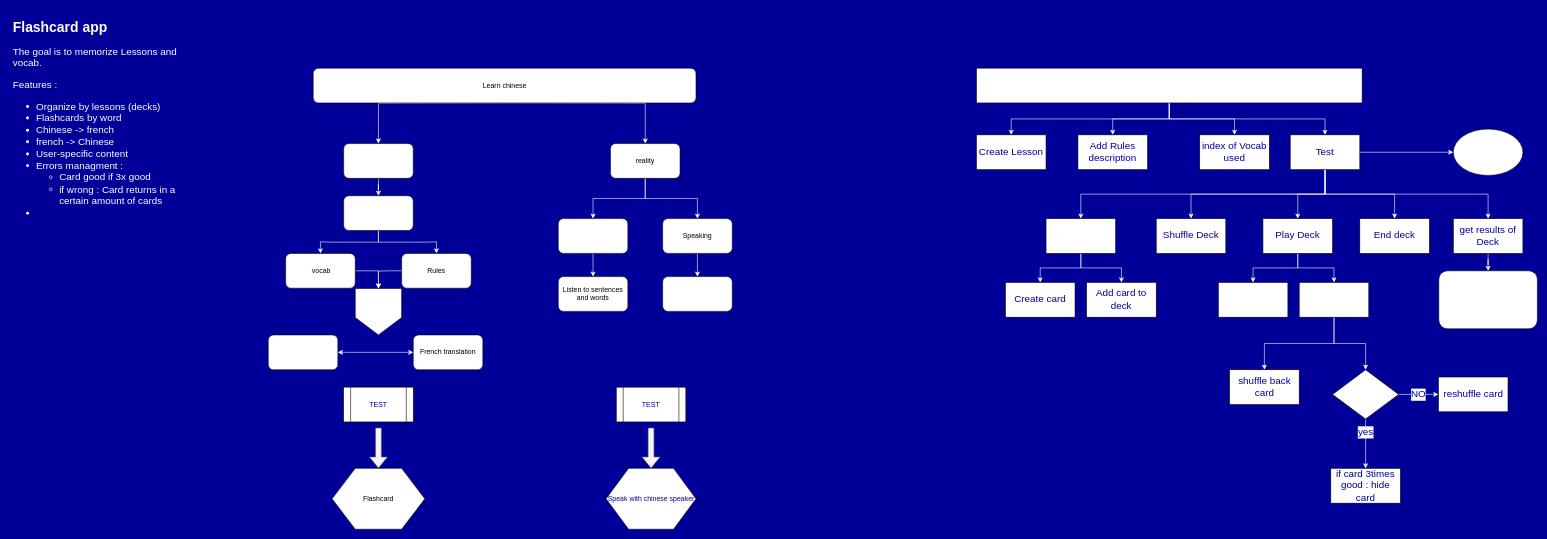
Some shapes in this 1547 by 539 pixel diagram are drawn without their labels. The shapes that lost their labels are listed below. From the top down, each one's box as (x1, y1, x2, y2) in pixels, then its label:
(976, 68, 1362, 103): Lesson
(343, 143, 413, 178): Theory
(1453, 128, 1523, 175): Validate Lesson
(343, 195, 413, 231): Learn Lessons
(558, 218, 628, 253): Listening
(1045, 218, 1116, 253): Create Deck
(355, 288, 402, 335): Memorization
(662, 276, 732, 311): speak and get feedback
(1218, 282, 1288, 317): Draw card
(1299, 282, 1369, 317): Respond to question
(1438, 270, 1537, 329): Metrics : time taken errors
(268, 334, 338, 370): chinese translation
(1332, 369, 1399, 419): Response OK
